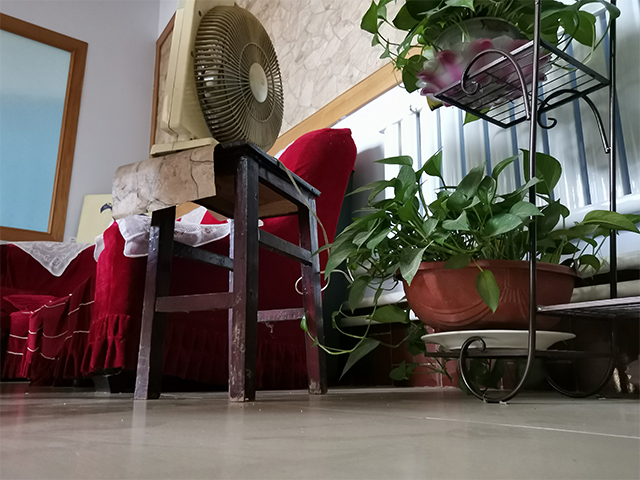sofa: (1, 126, 359, 396)
stool: (132, 139, 331, 403)
